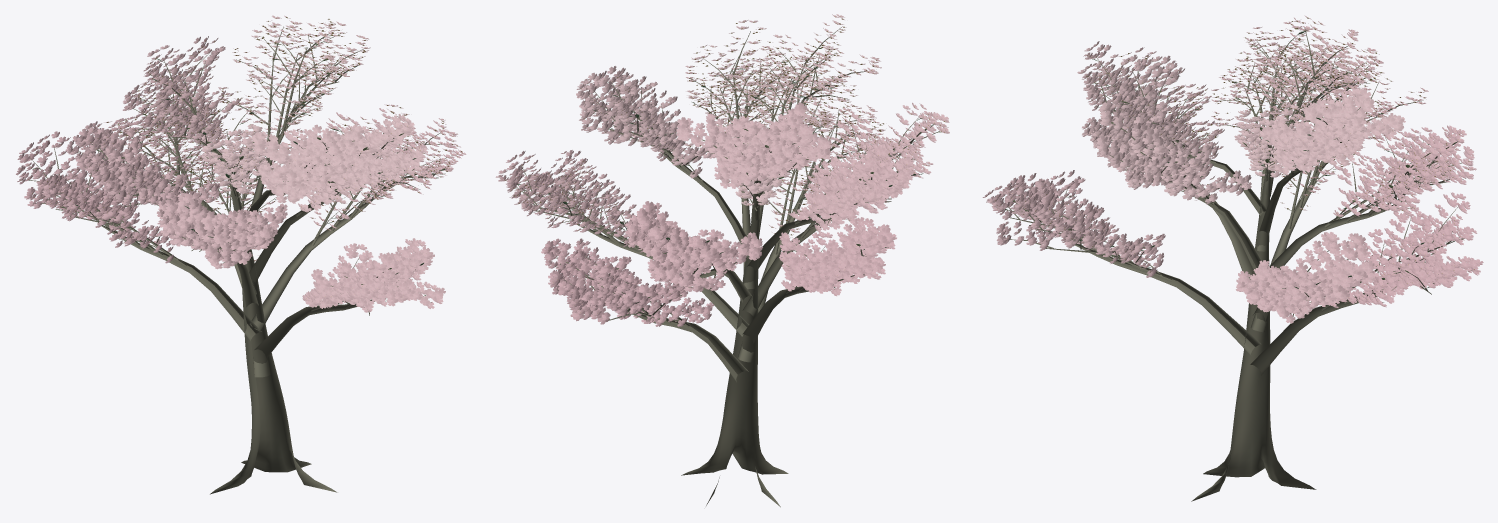
The picture shows the model from 3 angles, left to right: view 1: azimuth 30°, elevation 25°; view 2: azimuth 150°, elevation 25°; view 3: azimuth 270°, elevation 25°; orthographic projection. The views are drawn at different scales.
Parts seen in each view (by area): view 1: leaves, branches; view 2: leaves, branches; view 3: leaves, branches.
Part boxes in pixels (x1=…): leaves: x1=16, y1=15, x2=466, y2=312; branches: x1=28, y1=26, x2=452, y2=494; leaves: x1=495, y1=14, x2=949, y2=326; branches: x1=510, y1=27, x2=939, y2=507; leaves: x1=982, y1=15, x2=1483, y2=323; branches: x1=999, y1=28, x2=1462, y2=501.
Size of the model in its own units: 8.94 by 8.89 by 9.27.
